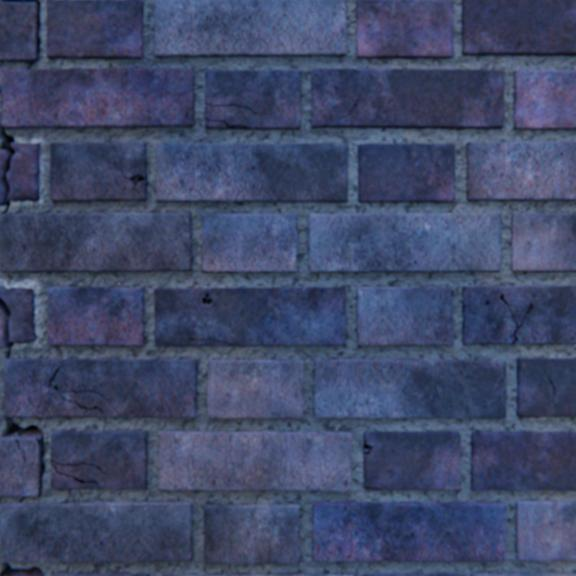brick: (0, 500, 192, 561), (311, 69, 502, 129), (160, 430, 350, 490), (312, 501, 504, 560), (313, 359, 505, 418), (3, 69, 194, 128), (155, 287, 345, 346), (0, 213, 192, 271), (156, 144, 347, 202), (308, 213, 499, 271), (5, 358, 196, 416), (155, 0, 345, 57), (461, 285, 575, 343), (461, 0, 575, 56), (465, 142, 575, 200), (470, 431, 575, 490), (355, 0, 452, 59), (206, 70, 301, 130), (47, 0, 143, 59), (204, 503, 300, 562), (363, 430, 459, 489), (51, 429, 147, 488), (357, 144, 453, 202), (48, 287, 144, 345), (356, 287, 452, 345), (51, 143, 147, 201), (208, 359, 302, 417), (202, 214, 297, 271), (510, 213, 575, 271), (512, 71, 575, 130), (514, 500, 575, 559), (515, 358, 575, 415), (0, 436, 42, 495), (0, 3, 40, 63), (163, 573, 352, 575), (470, 572, 575, 575), (53, 572, 149, 575), (364, 572, 459, 575), (205, 121, 231, 129), (364, 487, 381, 489), (234, 127, 243, 129)
broken_brick: (0, 285, 37, 342), (8, 143, 40, 201), (0, 149, 10, 205), (0, 308, 9, 347)
crack: (48, 366, 109, 412), (6, 416, 46, 475), (498, 293, 531, 343), (1, 126, 16, 214), (51, 458, 107, 481), (3, 0, 41, 29), (0, 297, 14, 357), (1, 561, 44, 575), (119, 169, 146, 190), (205, 118, 246, 129), (226, 105, 258, 116), (336, 111, 351, 124), (352, 89, 362, 108), (203, 338, 232, 344), (20, 448, 26, 473), (363, 440, 372, 453), (202, 293, 212, 304), (546, 376, 553, 391), (205, 103, 223, 107), (364, 486, 383, 489), (90, 479, 99, 485), (0, 239, 1, 259), (40, 39, 41, 53), (188, 338, 201, 339)
